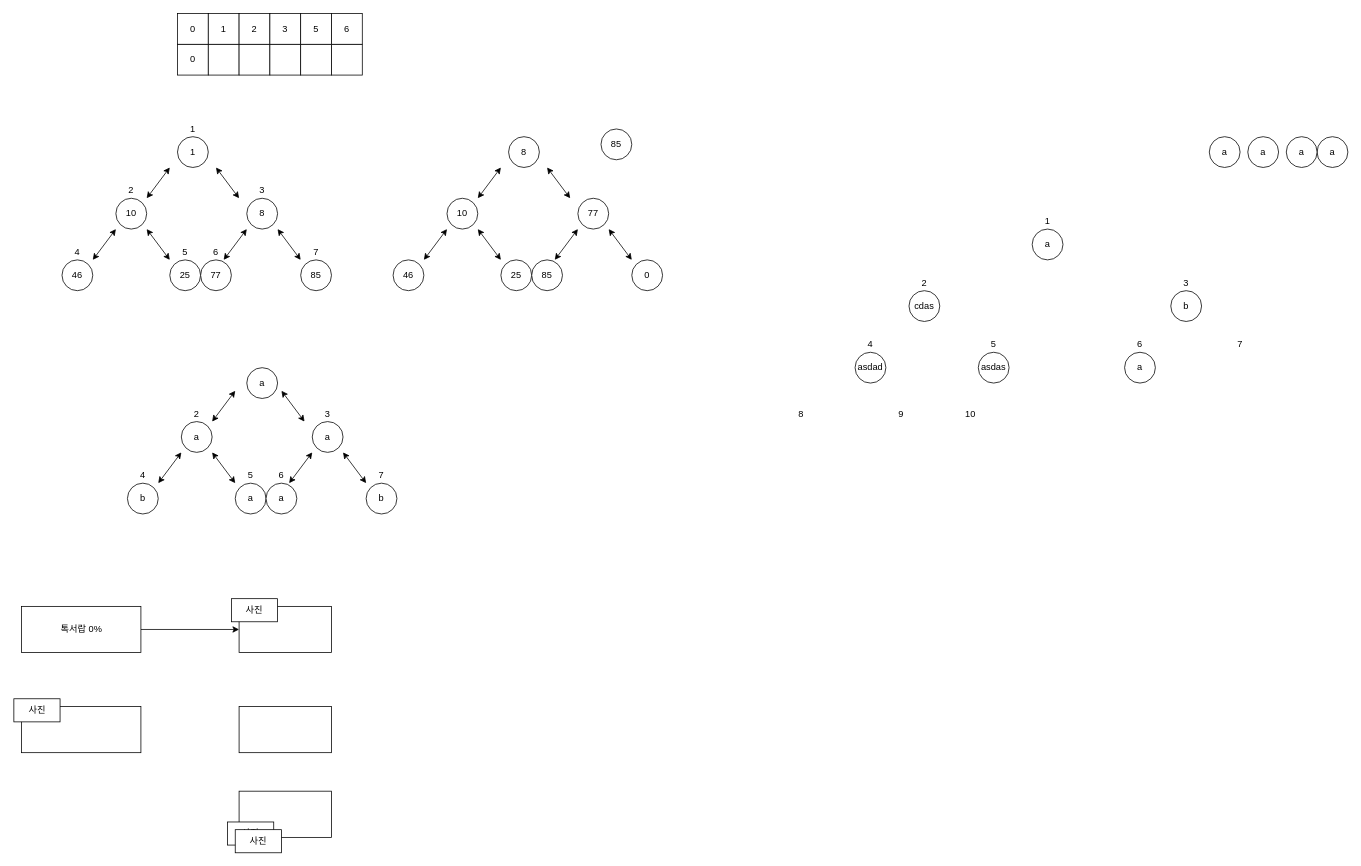
The diagram is 1361 pixels wide and 866 high, and some of its shapes have lost their labels. The box of each missing label's shape, as (x1, y1, x2, y2) in pixels:
엄마 PC: (238, 606, 331, 653)
엄마 핸드폰: (238, 706, 331, 753)
카카오톡 회사 컴퓨터: (21, 706, 141, 753)
태규 핸드폰: (238, 790, 331, 837)
